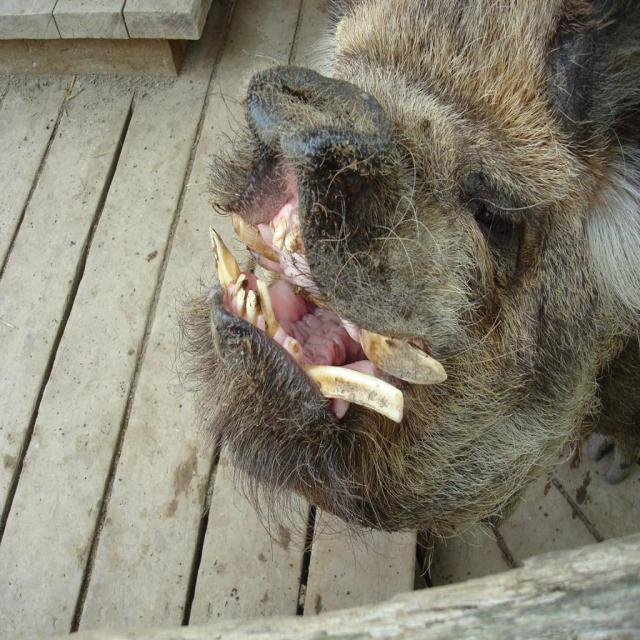Pig: (160, 0, 640, 592)
